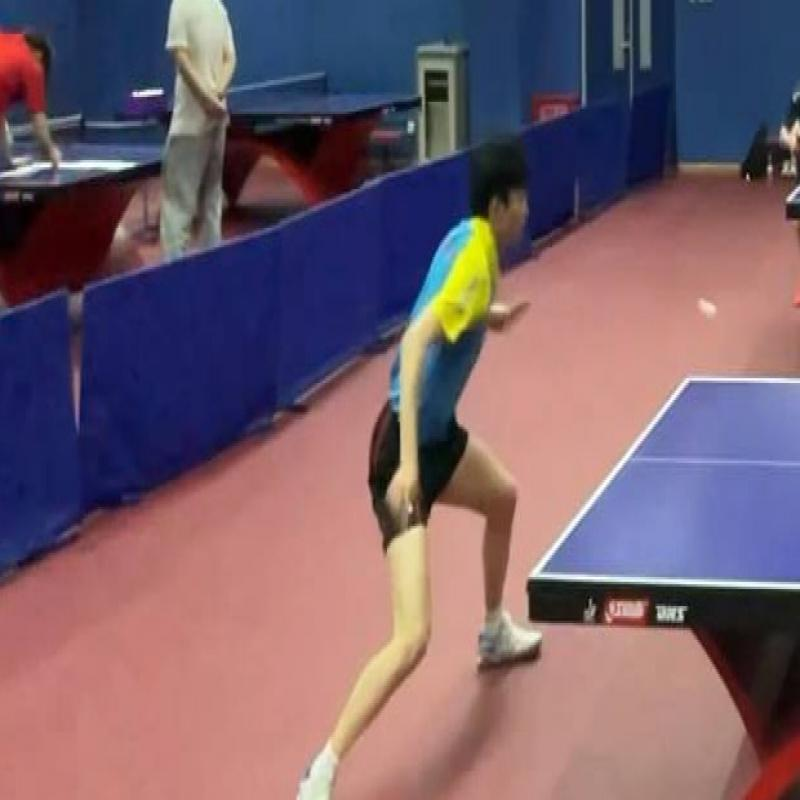bats: (502, 284, 538, 342)
